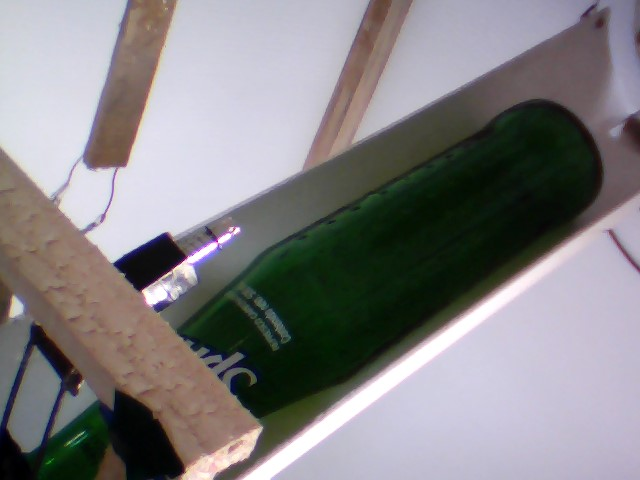vidrio: (175, 94, 604, 421)
